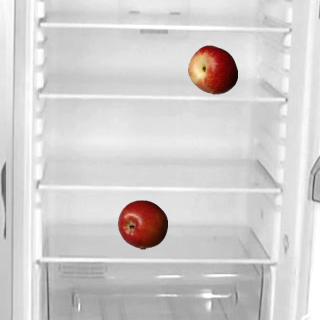Apple Braeburn: (117, 199, 167, 249)
Nectarine: (187, 44, 237, 94)
